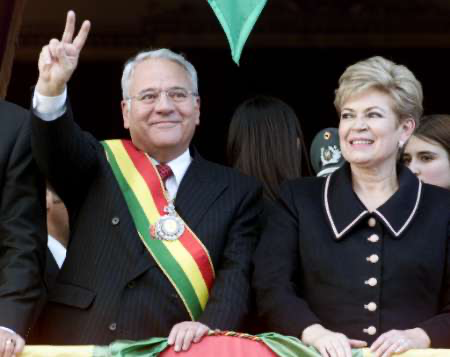Face: (125, 70, 195, 147), (336, 98, 400, 167), (403, 127, 449, 194)
